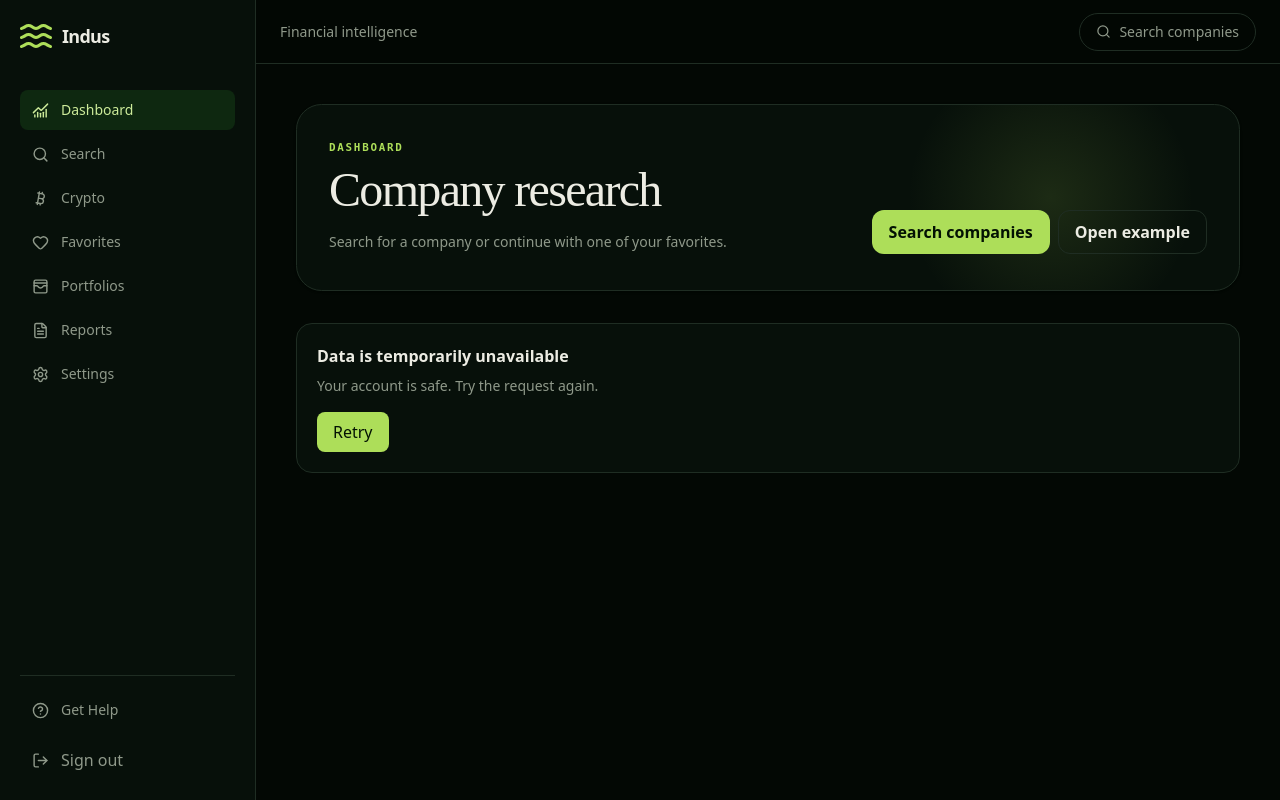
Test: application routing › retries a failed read through the visible recovery control
Click the button "Retry" at (353,432), box [317,412,388,452]
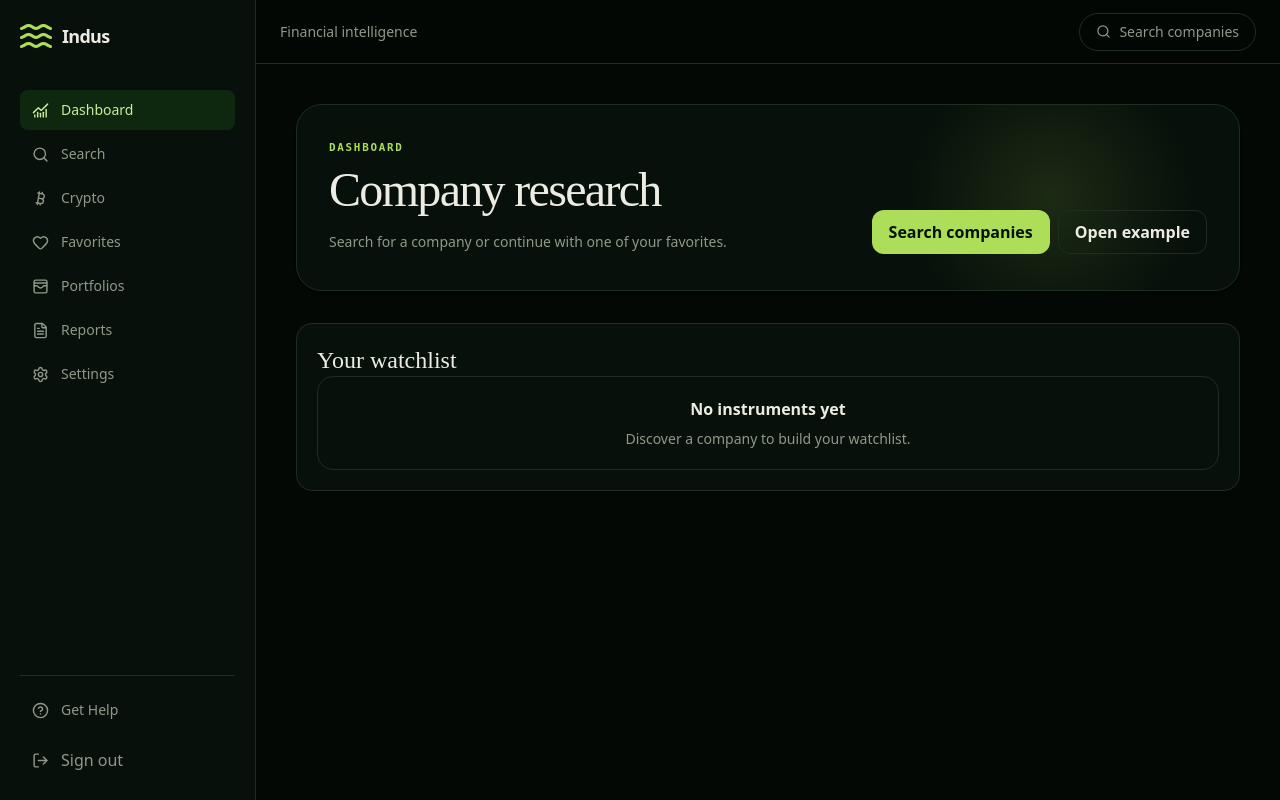
expect the heading "No instruments yet" is shown: met, box [690,398,846,420]
